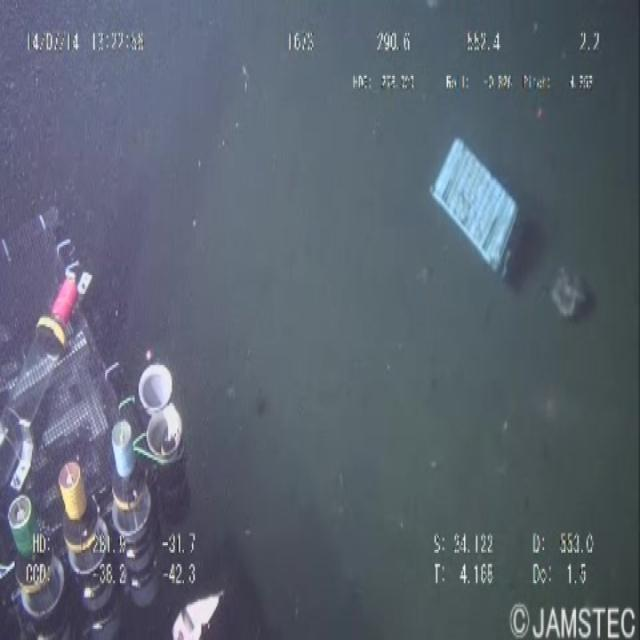Cutlery: (421, 112, 529, 298)
